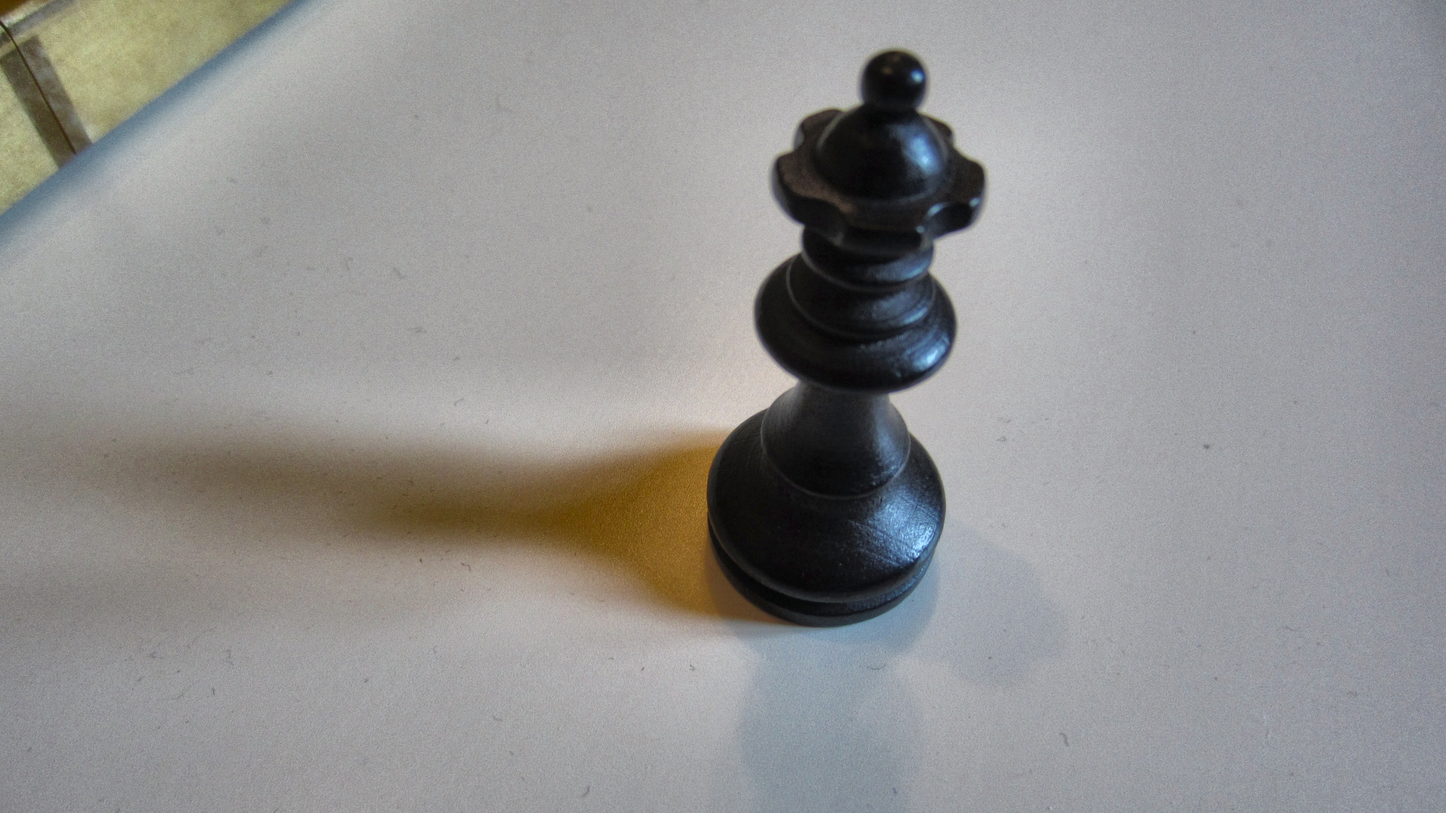black-queen: (694, 46, 989, 633)
